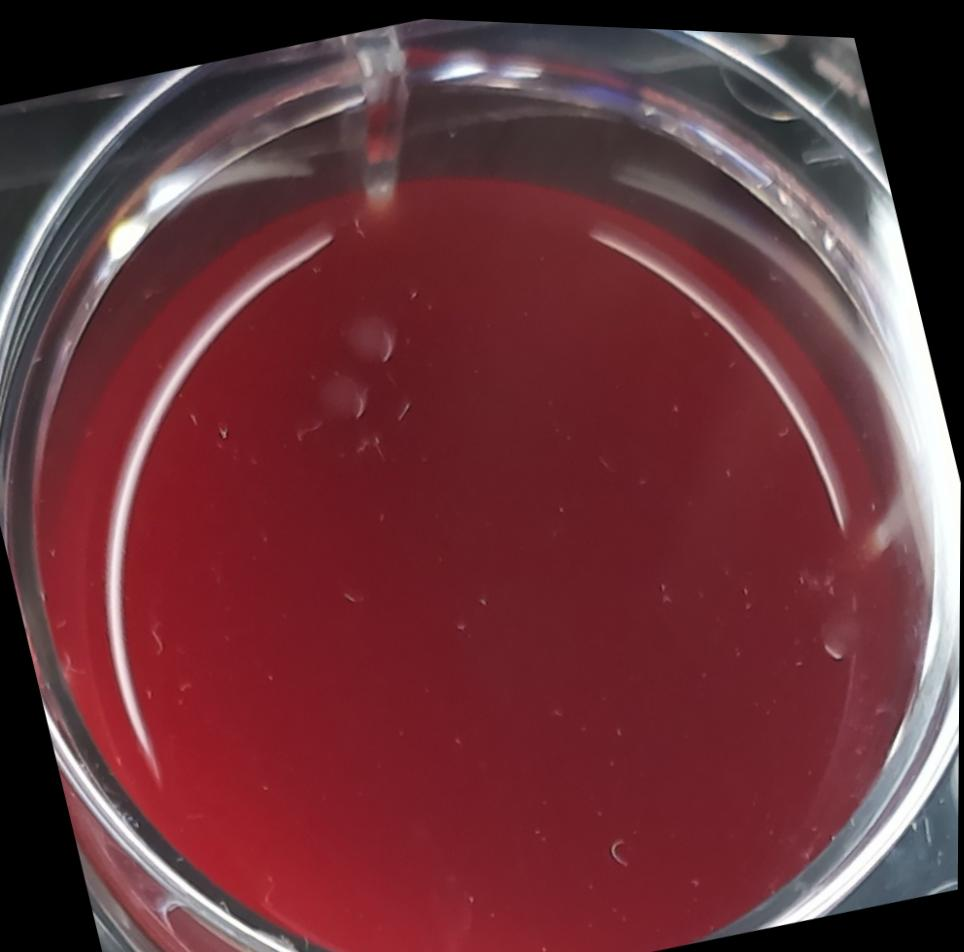vharveyi: (302, 356, 380, 436), (336, 299, 405, 369)
